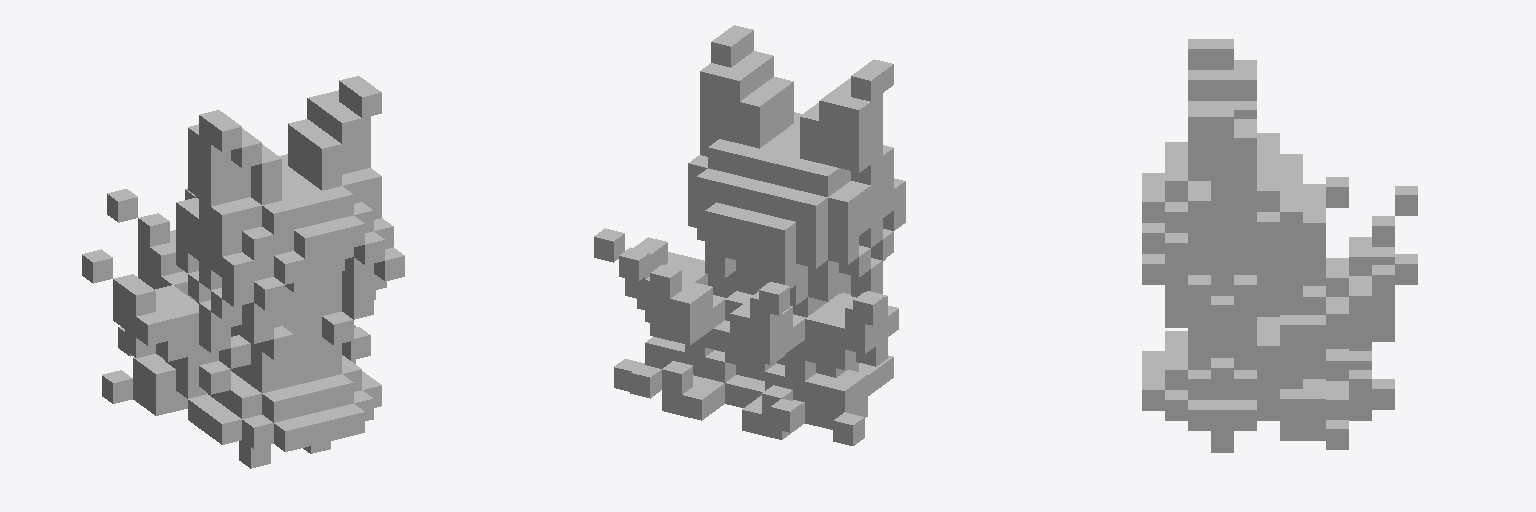
File: chr_fox.obj
The picture shows the model from 3 angles: view 1: azimuth 30°, elevation 25°; view 2: azimuth 150°, elevation 25°; view 3: azimuth 270°, elevation 25°; orthographic projection.
Visible parts, largest first — view 1: chr_fox; view 2: chr_fox; view 3: chr_fox.
Boxes of the visible parts, x1=… form: chr_fox: x1=82, y1=76, x2=404, y2=468; chr_fox: x1=594, y1=25, x2=905, y2=445; chr_fox: x1=1142, y1=39, x2=1417, y2=452.
Bounding box in the file's own units: 14 × 17 × 12.